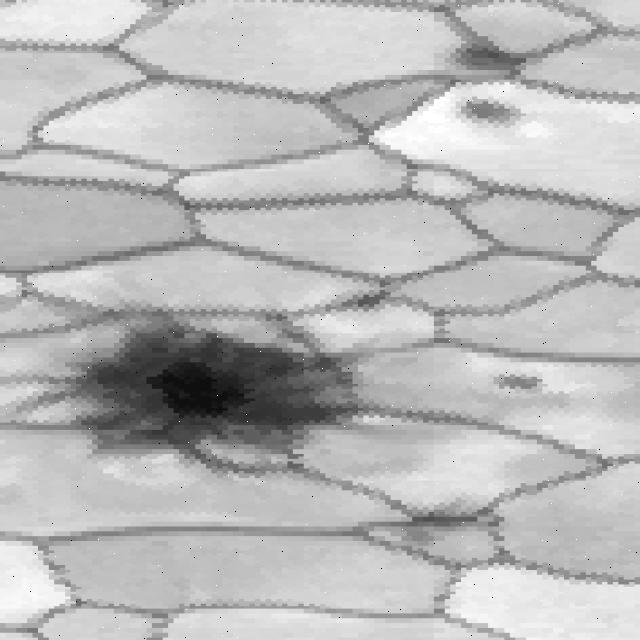good_void: (57, 314, 365, 468), (365, 489, 507, 547), (423, 35, 553, 78), (429, 90, 533, 135), (330, 279, 412, 313), (483, 365, 567, 394)
